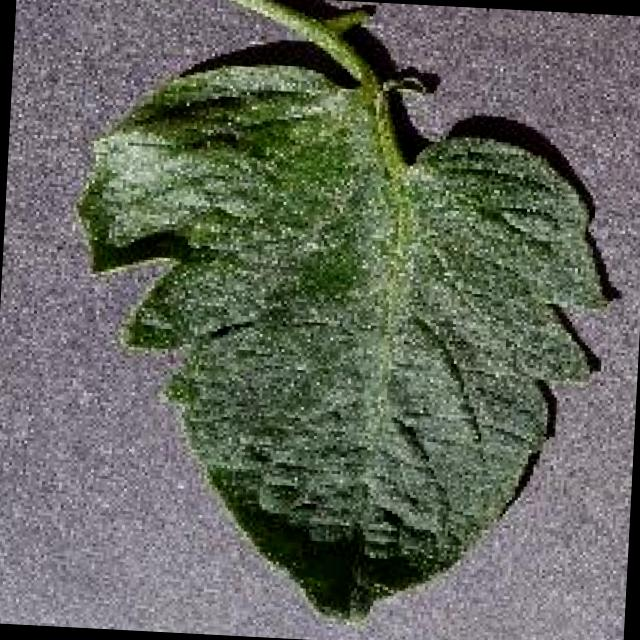healthy: (87, 0, 610, 618)
